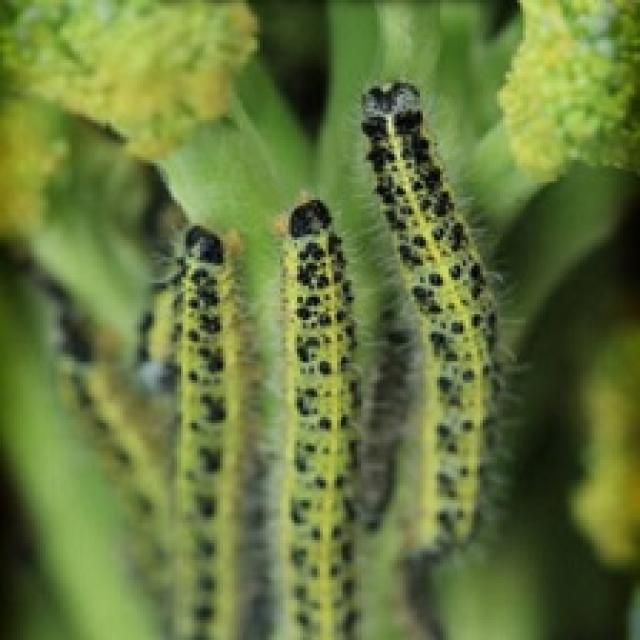Cabbage-worm: (347, 74, 566, 589), (152, 198, 264, 640), (271, 177, 361, 640), (61, 310, 170, 572)
